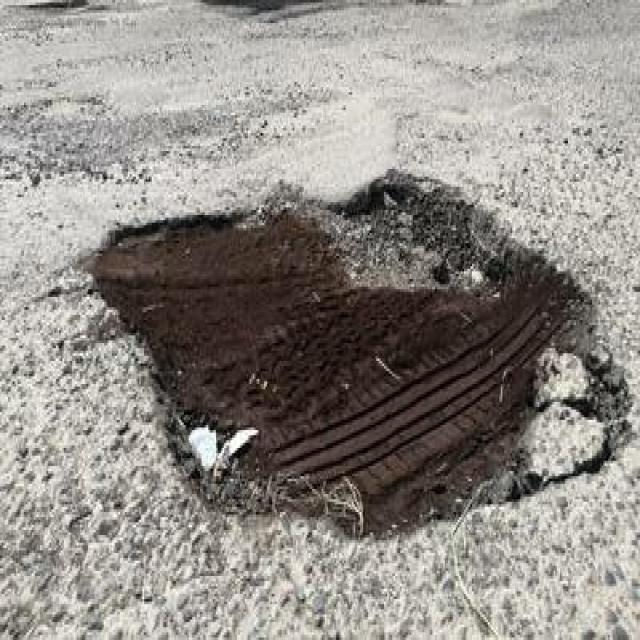Pothole: (75, 162, 629, 592)
